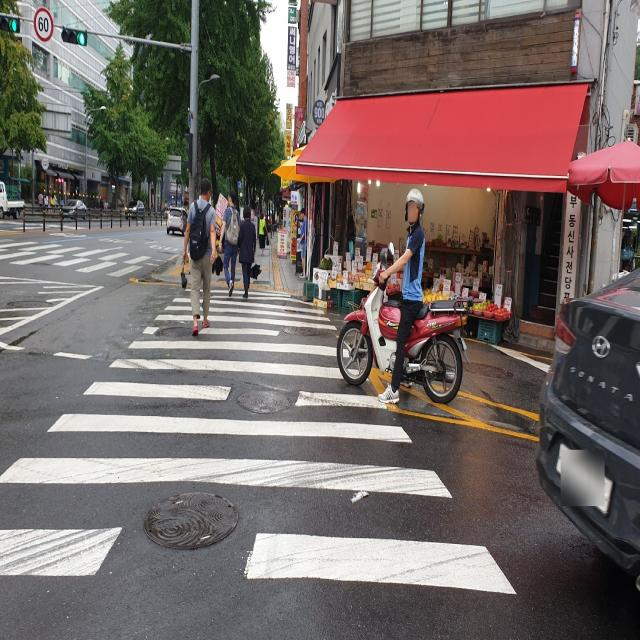횡단보도: (0, 288, 517, 594), (1, 222, 159, 282)
